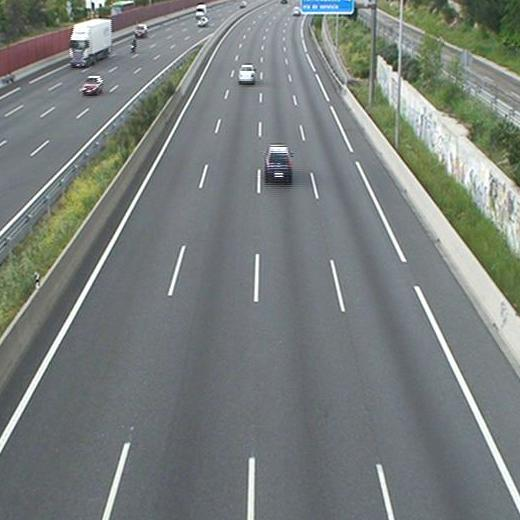car: (263, 143, 293, 185), (236, 63, 256, 86)
